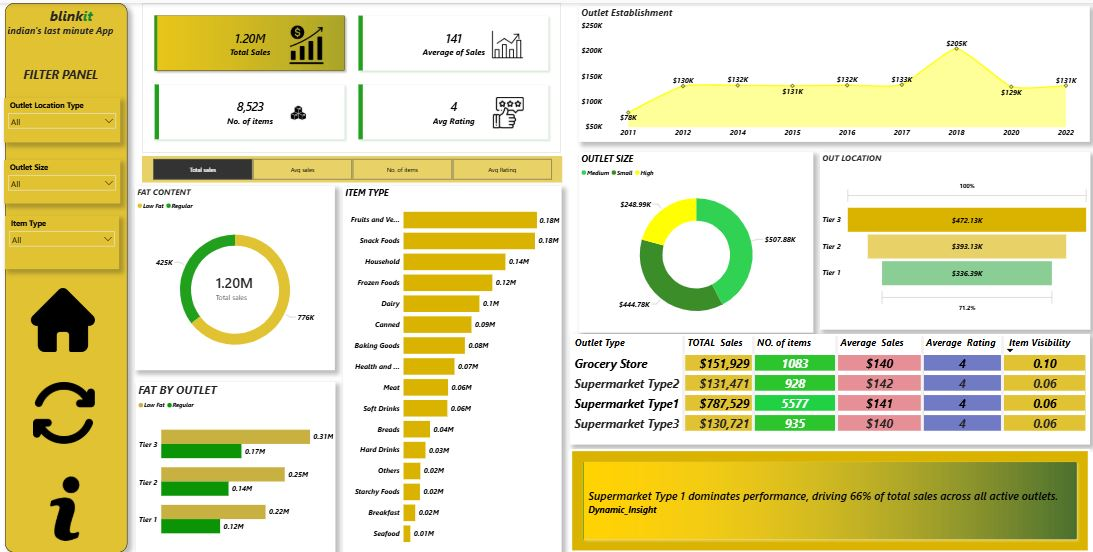

Layout of this report page (visuals, bound fields, positions):
{"tool":"powerbi","page":{"name":"Page 1","canvas":[2515,1263],"ordinal":0},"visuals":[{"type":"textbox","box":[11,0,281.1,1262.2],"z":0},{"type":"cardVisual","fields":{"Data":["Sum(BlinkIT Grocery Data.Sales)","BlinkIT Grocery Data.No. of items","Avg(BlinkIT Grocery Data.Sales)","BlinkIT Grocery Data.Avg Rating"]},"box":[325,0,963.5,344.2],"z":1000},{"type":"areaChart","title":"Outlet Establishment ","fields":{"Category":["BlinkIT Grocery Data.Outlet Establishment Year"],"Y":["Sum(BlinkIT Grocery Data.Sales)"]},"box":[1329.6,6.9,1173.4,312.3],"z":2000},{"type":"donutChart","title":"FAT CONTENT","fields":{"Y":["BlinkIT Grocery Data.Total sales"],"Category":["BlinkIT Grocery Data.Item Fat Content"]},"box":[310,420.2,459.3,422.5],"z":3000},{"type":"clusteredBarChart","title":"ITEM TYPE","fields":{"Y":["BlinkIT Grocery Data.Total sales"],"Category":["BlinkIT Grocery Data.Item Type"]},"box":[786.7,420,502.2,842.2],"z":4000},{"type":"cardVisual","fields":{"Data":["BlinkIT Grocery Data.Total sales"]},"box":[467,602,148,102],"z":5000},{"type":"clusteredBarChart","title":"FAT BY OUTLET","fields":{"Y":["BlinkIT Grocery Data.Total sales"],"Category":["BlinkIT Grocery Data.Outlet Location Type"],"Series":["BlinkIT Grocery Data.Item Fat Content"]},"box":[312,871,458,391],"z":6000},{"type":"donutChart","title":"OUTLET SIZE","fields":{"Category":["BlinkIT Grocery Data.Outlet Size"],"Y":["Sum(BlinkIT Grocery Data.Sales)"]},"box":[1328.8,342.3,538.5,415.4],"z":7000},{"type":"funnel","title":"OUT LOCATION","fields":{"Category":["BlinkIT Grocery Data.Outlet Location Type"],"Y":["Sum(BlinkIT Grocery Data.Sales)"]},"box":[1882.7,342.3,621.2,407.7],"z":8000},{"type":"tableEx","fields":{"Values":["BlinkIT Grocery Data.Outlet Type","Sum(BlinkIT Grocery Data.Sales)","BlinkIT Grocery Data.Total items","Avg(BlinkIT Grocery Data.Sales)","Avg(BlinkIT Grocery Data.Rating)","Avg(BlinkIT Grocery Data.Item Visibility)"]},"box":[1309.6,759.6,1194.2,253.8],"z":9000},{"type":"slicer","fields":{"Values":["metric selector.metric selector"]},"box":[325.5,351,964.7,60.8],"z":13000},{"type":"slicer","fields":{"Values":["BlinkIT Grocery Data.Outlet Location Type"]},"box":[8.9,217.8,266.7,102.2],"z":14000},{"type":"slicer","fields":{"Values":["BlinkIT Grocery Data.Outlet Size"]},"box":[8.9,360,266.7,100],"z":15000},{"type":"slicer","fields":{"Values":["BlinkIT Grocery Data.Item Type"]},"box":[11.1,488.9,262.2,122.2],"z":16000},{"type":"image","box":[1113.3,216.7,106.7,71.7],"z":17000},{"type":"image","box":[1105,51.7,121.7,90],"z":18000},{"type":"image","box":[647,221,74,63],"z":19000},{"type":"image","box":[62.2,653.3,164.4,146.7],"z":20000},{"type":"image","box":[75.6,871.1,142.2,142.2],"z":21000},{"type":"image","box":[64.4,1066.7,168.9,186.7],"z":22000},{"type":"image","box":[637.8,51.1,131.1,91.1],"z":23000},{"type":"cardVisual","fields":{"Data":["BlinkIT Grocery Data.Dynamic_Insight"]},"box":[1309.6,1023.1,1194.2,238.5],"z":25000}]}

Visuals, with their boxes in screenshot pixels (x1, y1, x2, y2), scaled from the page's 2515x1263 canvas onto the 1093x552 screenshot:
textbox: [left=5, top=0, right=127, bottom=551]
cardVisual - Sum(BlinkIT Grocery Data.Sales) x BlinkIT Grocery Data.No. of items: [left=141, top=0, right=560, bottom=150]
"Outlet Establishment " areaChart: [left=578, top=3, right=1088, bottom=140]
"FAT CONTENT" donutChart: [left=135, top=184, right=334, bottom=368]
"ITEM TYPE" clusteredBarChart: [left=342, top=184, right=560, bottom=551]
cardVisual - BlinkIT Grocery Data.Total sales: [left=203, top=263, right=267, bottom=308]
"FAT BY OUTLET" clusteredBarChart: [left=136, top=381, right=335, bottom=551]
"OUTLET SIZE" donutChart: [left=577, top=150, right=812, bottom=331]
"OUT LOCATION" funnel: [left=818, top=150, right=1088, bottom=328]
tableEx - BlinkIT Grocery Data.Outlet Type x Sum(BlinkIT Grocery Data.Sales): [left=569, top=332, right=1088, bottom=443]
slicer - metric selector.metric selector: [left=141, top=153, right=561, bottom=180]
slicer - BlinkIT Grocery Data.Outlet Location Type: [left=4, top=95, right=120, bottom=140]
slicer - BlinkIT Grocery Data.Outlet Size: [left=4, top=157, right=120, bottom=201]
slicer - BlinkIT Grocery Data.Item Type: [left=5, top=214, right=119, bottom=267]
image: [left=484, top=95, right=530, bottom=126]
image: [left=480, top=23, right=533, bottom=62]
image: [left=281, top=97, right=313, bottom=124]
image: [left=27, top=286, right=98, bottom=350]
image: [left=33, top=381, right=95, bottom=443]
image: [left=28, top=466, right=101, bottom=548]
image: [left=277, top=22, right=334, bottom=62]
cardVisual - BlinkIT Grocery Data.Dynamic_Insight: [left=569, top=447, right=1088, bottom=551]
